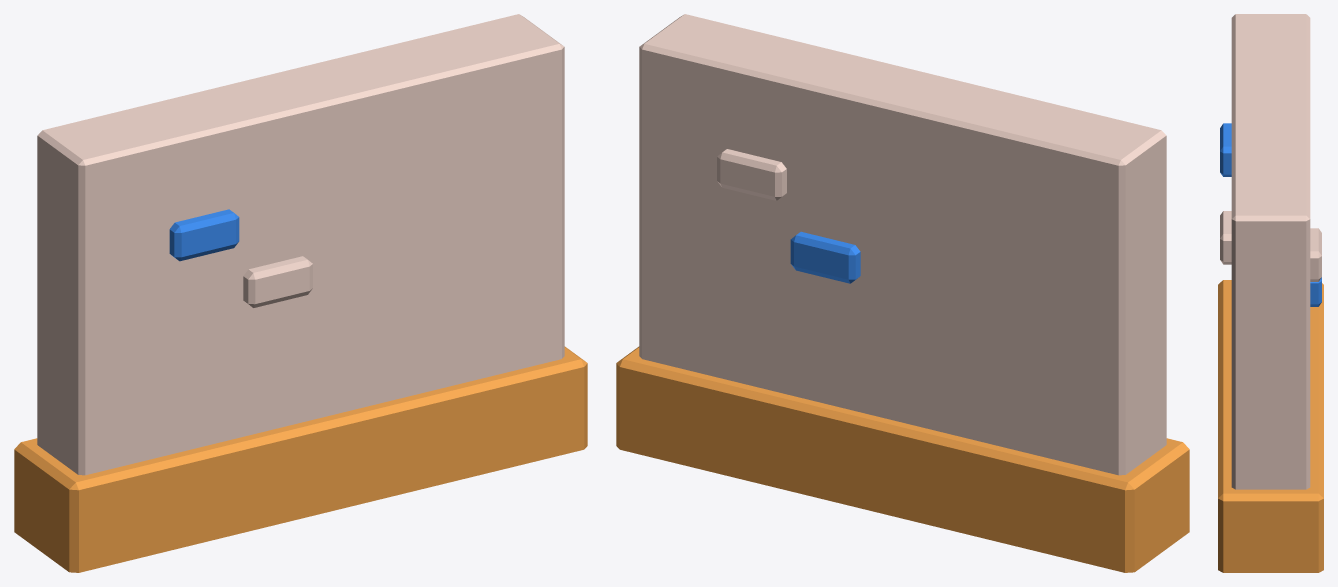
The model's file is Wall(1) Wrld 1 Lvl 3.fbx.
3 views of the same model, side by side, from view 1: azimuth 30°, elevation 25°; view 2: azimuth 150°, elevation 25°; view 3: azimuth 270°, elevation 25° (orthographic). The views are drawn at different scales.
Visible parts, largest first — view 1: wall1; view 2: wall1; view 3: wall1.
Boxes of the visible parts, box(x1,y1,x2,y2) form: wall1: box(14, 14, 587, 572); wall1: box(616, 14, 1189, 572); wall1: box(1218, 14, 1323, 572).
Size of the model in its own units: 270 by 200 by 55.11.
